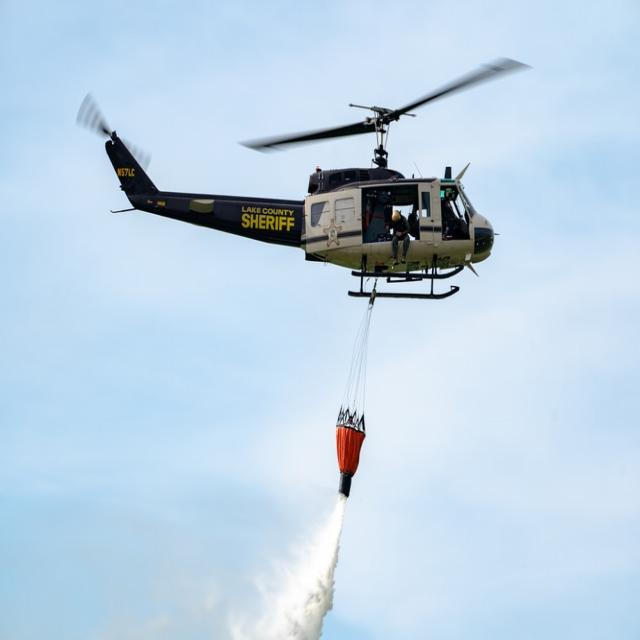helicopter: (80, 61, 526, 303)
